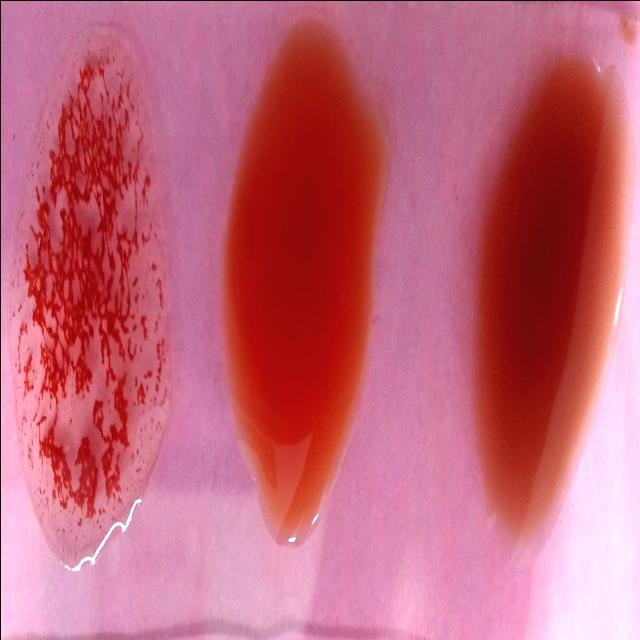D: (14, 51, 168, 572)
